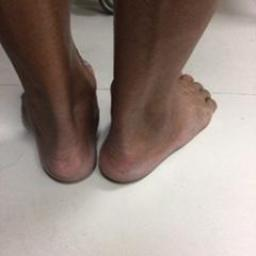Back View -Both Feet-: (11, 21, 223, 190)
